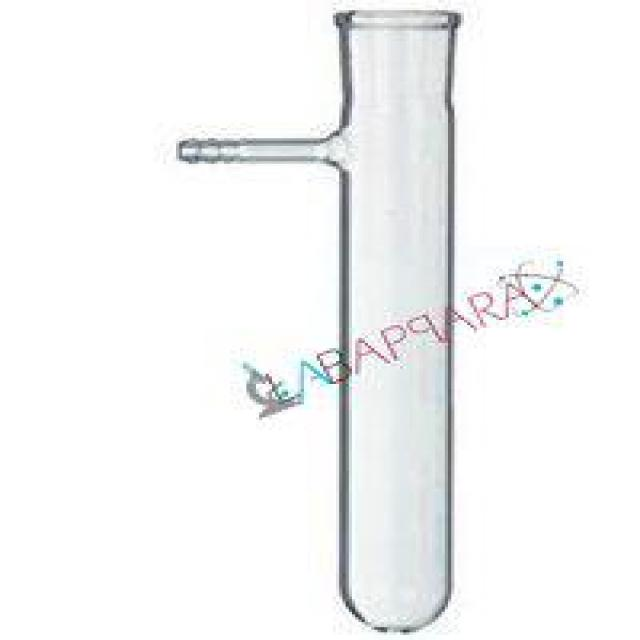non-organic waste: (142, 0, 520, 640)
